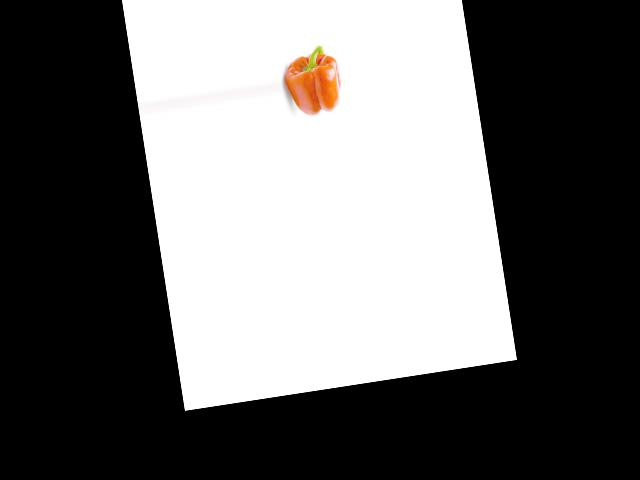bell_pepper: (281, 39, 345, 124)
